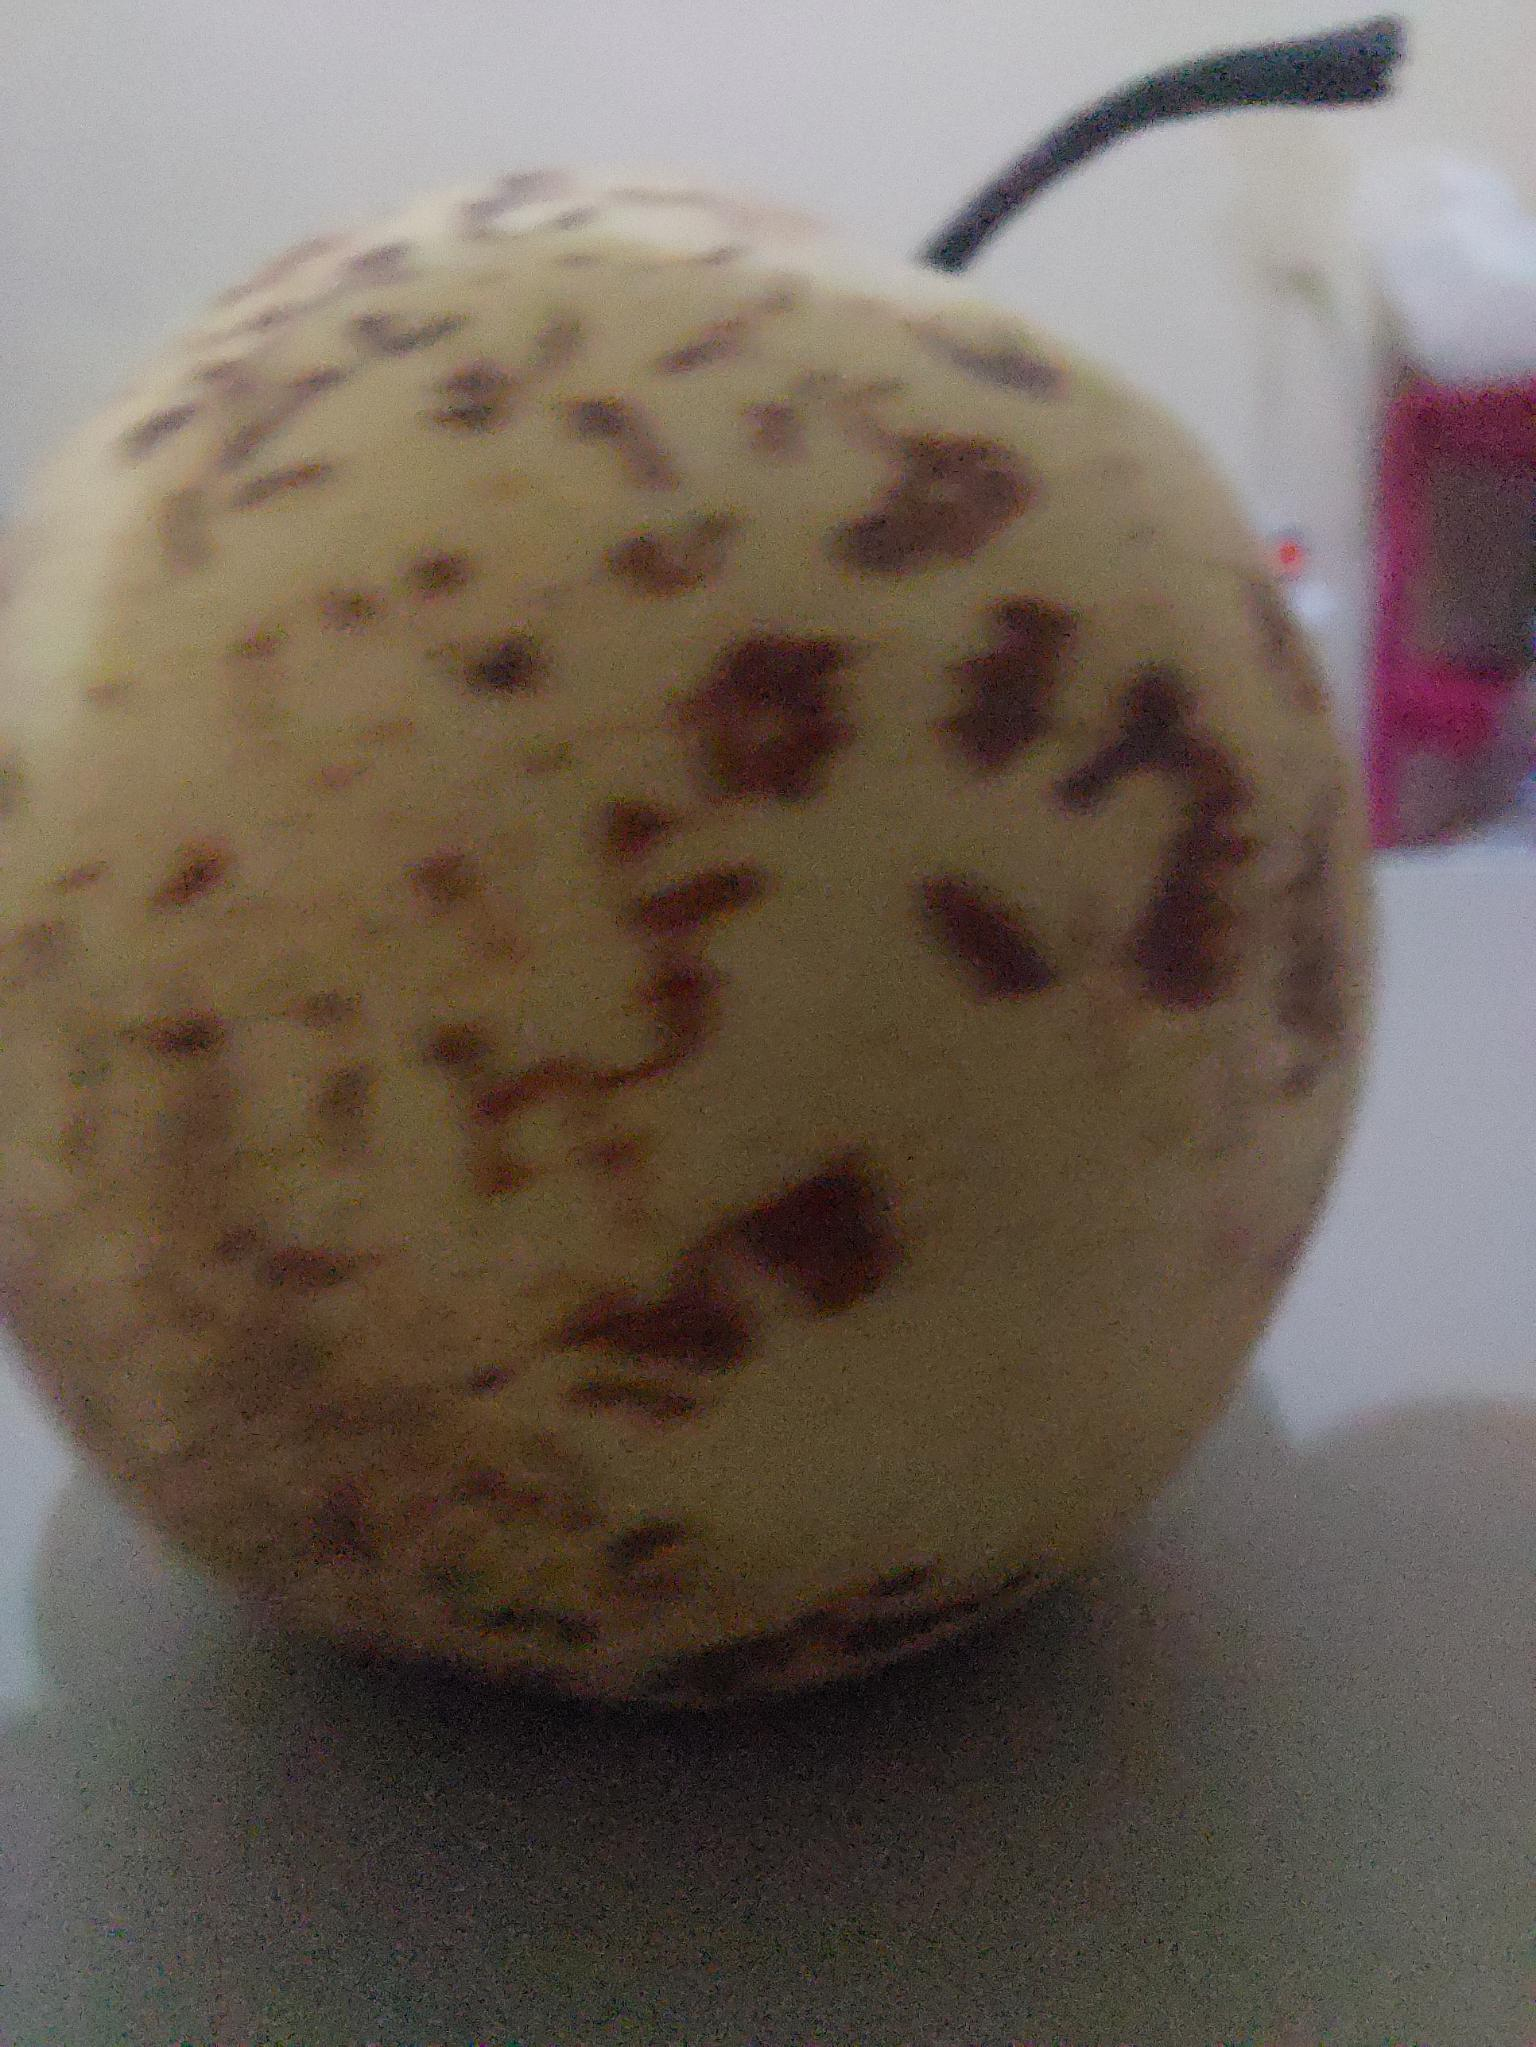Bad Pear: (0, 0, 1463, 1753)
